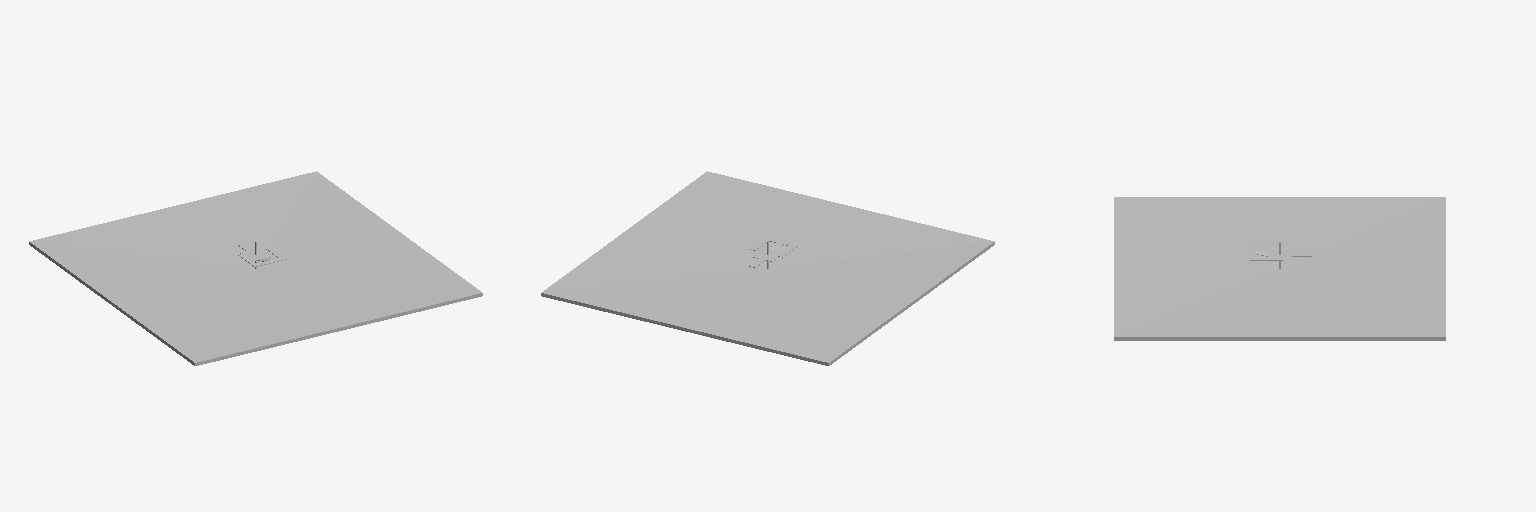
File: map_01.obj
3 renders of one model, left to right at view 1: azimuth 30°, elevation 25°; view 2: azimuth 150°, elevation 25°; view 3: azimuth 270°, elevation 25°, orthographic.
Visible parts, largest first — view 1: Cube.001; view 2: Cube.001; view 3: Cube.001.
Part boxes in pixels (x1,y1,x2,y2): Cube.001: (29,171,482,365); Cube.001: (541,171,994,365); Cube.001: (1114,197,1445,340).
Size of the model in its own units: 563 by 54.39 by 563.